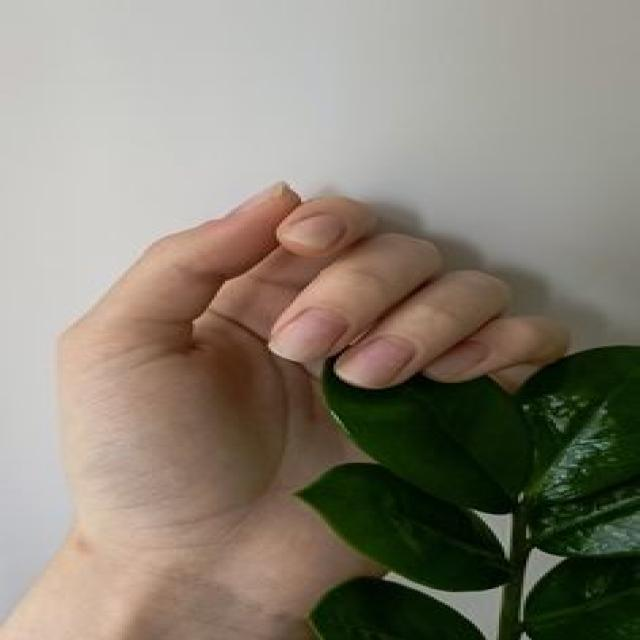Fingernail: (270, 308, 346, 367), (337, 336, 413, 386), (280, 215, 342, 250), (429, 340, 484, 376), (232, 182, 284, 213)
